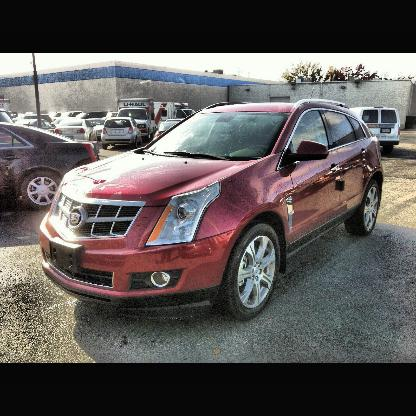Cadillac SRX SUV 2012: (39, 99, 387, 315)
